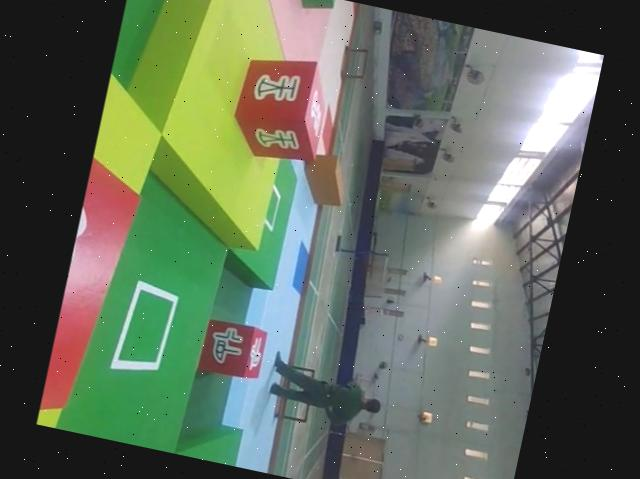R2 Real: (226, 47, 335, 169), (193, 314, 271, 385)
